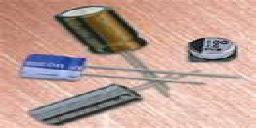Electrolytic-Capacitor: (52, 5, 155, 59), (28, 84, 145, 127), (16, 52, 93, 77), (187, 33, 244, 66)
